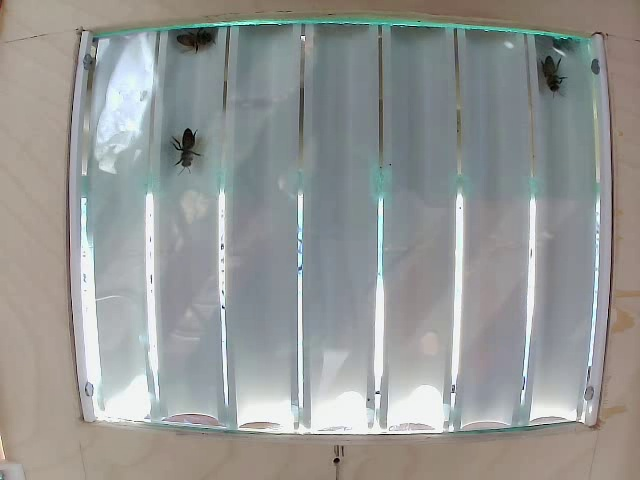bee: (535, 53, 566, 102), (169, 126, 197, 174)
